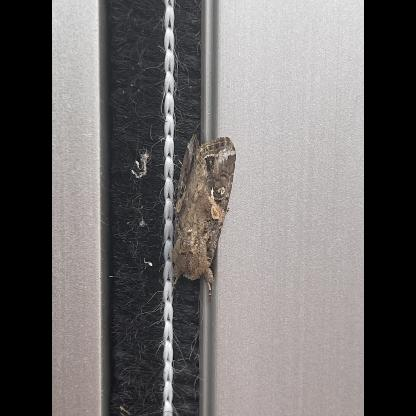Fall Armyworm Moth: (168, 132, 238, 304)
